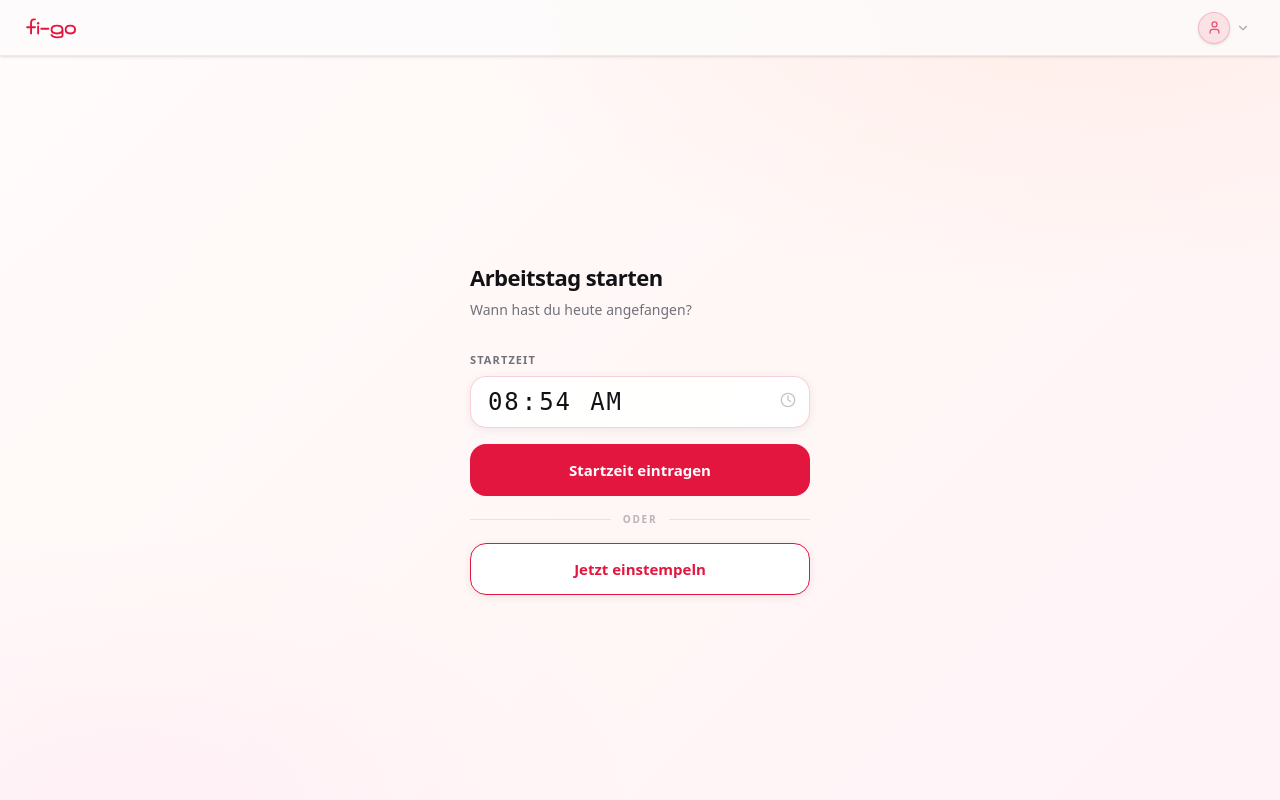
it: Session flow smoke › clocks in to the display screen and clocks out again
Note: Empty session → clock-in screen.
Click the button "Jetzt einstempeln". click: (640, 569)
box: [470,543,810,595]
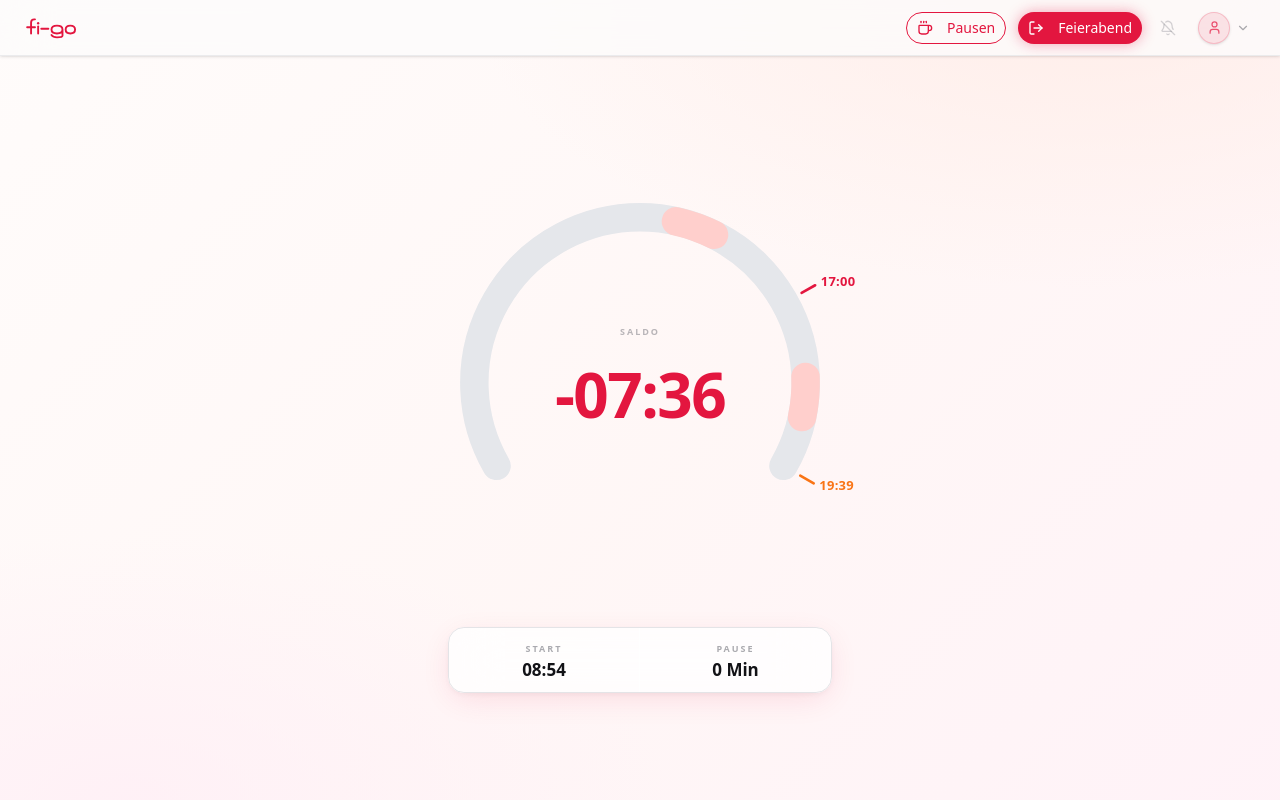
Expected: the text "Start" is shown, [526,642,562,655]
Result: the text "Pause" is shown at [716,642,754,655]
Result: the text "-07:36" is shown at [555,348,725,441]
Note: "Feierabend" clocks out → back to the clock-in screen.
Click the button "Feierabend". click: (1080, 28)
box: [1018,12,1142,44]
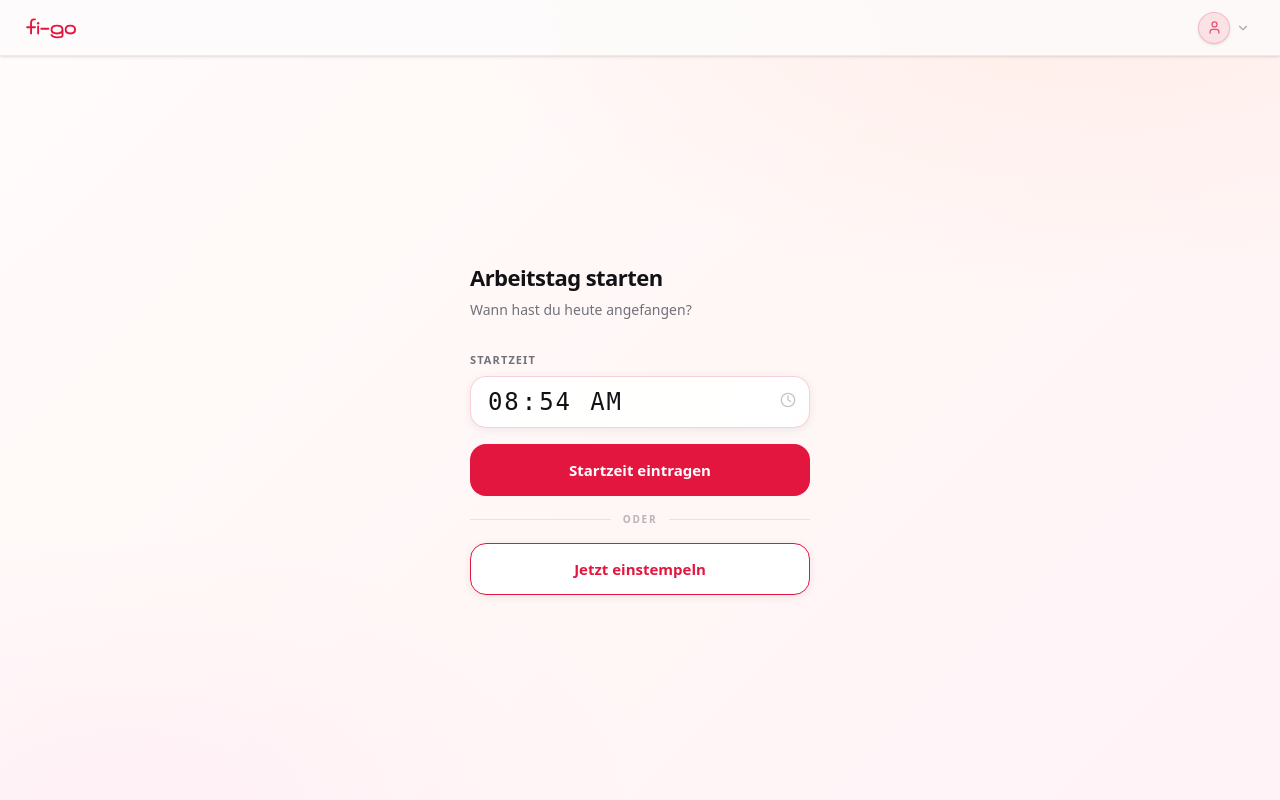
Result: the button "Jetzt einstempeln" is shown at [470,543,810,595]
